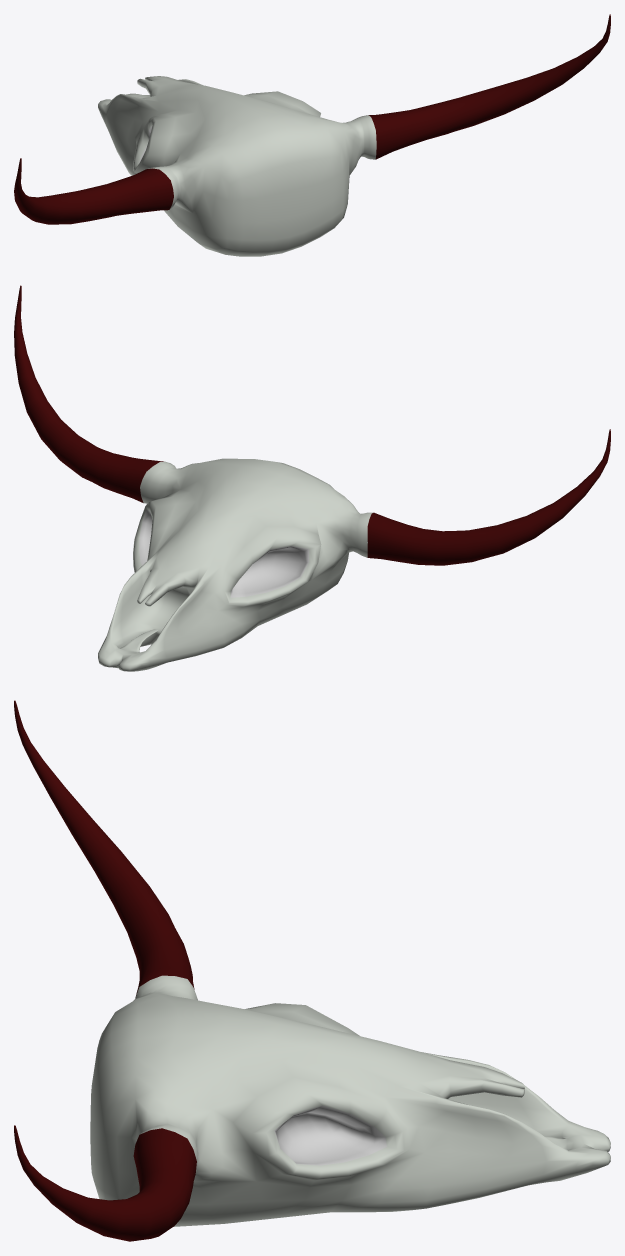
File: cowskull.obj
The picture shows the model from 3 angles, top to bottom: view 1: azimuth 30°, elevation 25°; view 2: azimuth 150°, elevation 25°; view 3: azimuth 270°, elevation 25°; orthographic projection. The views are drawn at different scales.
Visible parts, largest first — view 1: CowSkull; view 2: CowSkull; view 3: CowSkull.
Part boxes in pixels (x1,y1,x2,y2): CowSkull: [14, 14, 610, 256]; CowSkull: [14, 285, 610, 671]; CowSkull: [14, 700, 610, 1241].
Bounding box in the file's own units: 8.84 × 2.78 × 5.22.
